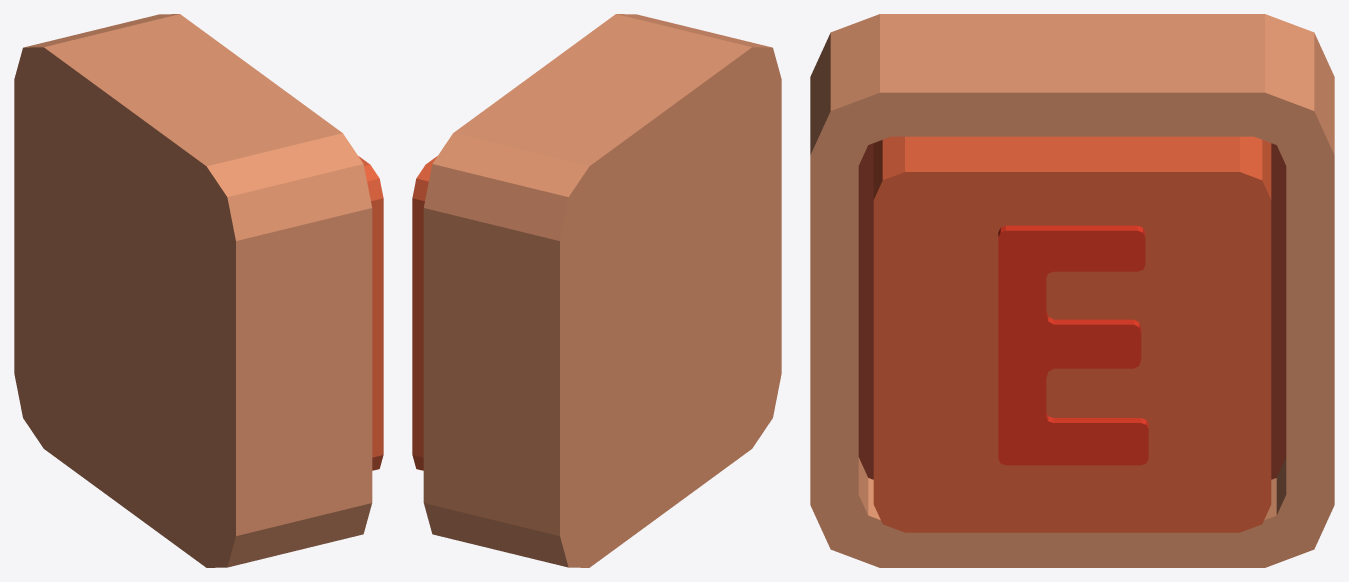
The model's file is E botton.fbx.
3 views of the same model, side by side, from view 1: azimuth 30°, elevation 25°; view 2: azimuth 150°, elevation 25°; view 3: azimuth 270°, elevation 25° (orthographic). The views are drawn at different scales.
Parts seen in each view (by area): view 1: Cube, Cube.001; view 2: Cube, Cube.001; view 3: Cube.001, Cube, Text.
Boxes of the visible parts, left/top/right/bottom form: Cube: left=14, top=14, right=372, bottom=567; Cube.001: left=358, top=156, right=383, bottom=470; Cube: left=423, top=14, right=781, bottom=567; Cube.001: left=412, top=156, right=437, bottom=470; Cube.001: left=873, top=136, right=1271, bottom=532; Cube: left=810, top=14, right=1334, bottom=567; Text: left=998, top=225, right=1148, bottom=465.
Size of the model in its own units: 95.39 by 200 by 200.
